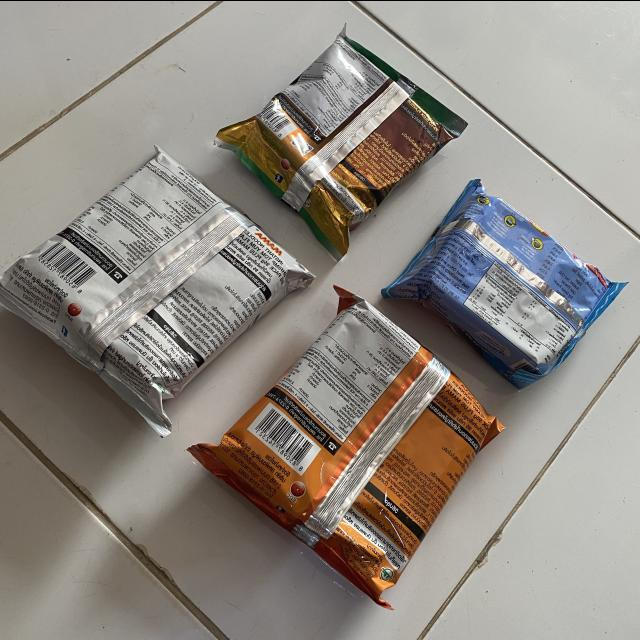plastik: (189, 286, 503, 607), (0, 146, 315, 435), (215, 28, 467, 258), (381, 178, 627, 388)
